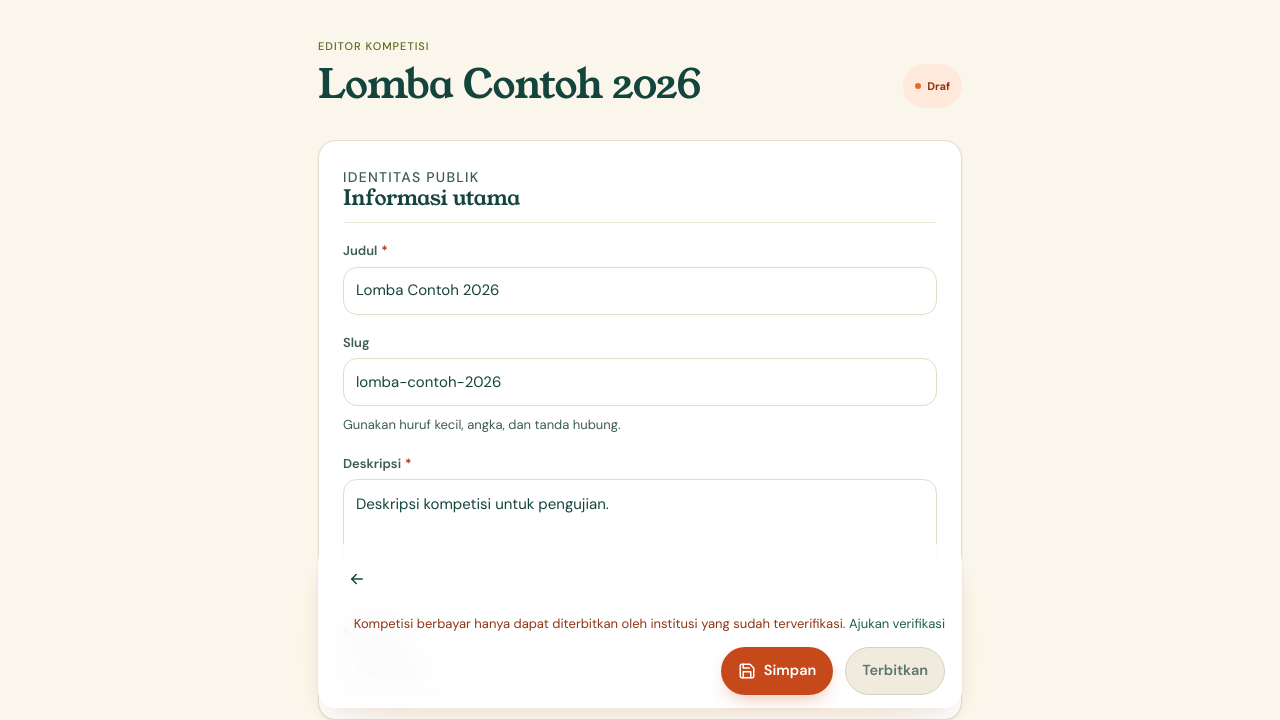
InstitutionCompetitionEditShell publish readiness › drops a server refusal it could not refresh, and takes it back when a later read succeeds
The image size is (1280, 720).
Expected: the button "Terbitkan" is disabled, [845,647,945,695]
Expected: the list item "Kompetisi berbayar hanya dapat diterbitkan oleh institusi yang sudah terverifikasi." is shown, [354,616,846,633]
What coordinates should you click on to do the following:
click the button "Simpan"
I would click on:
 (777, 671)
Its box is [721,647,833,695].
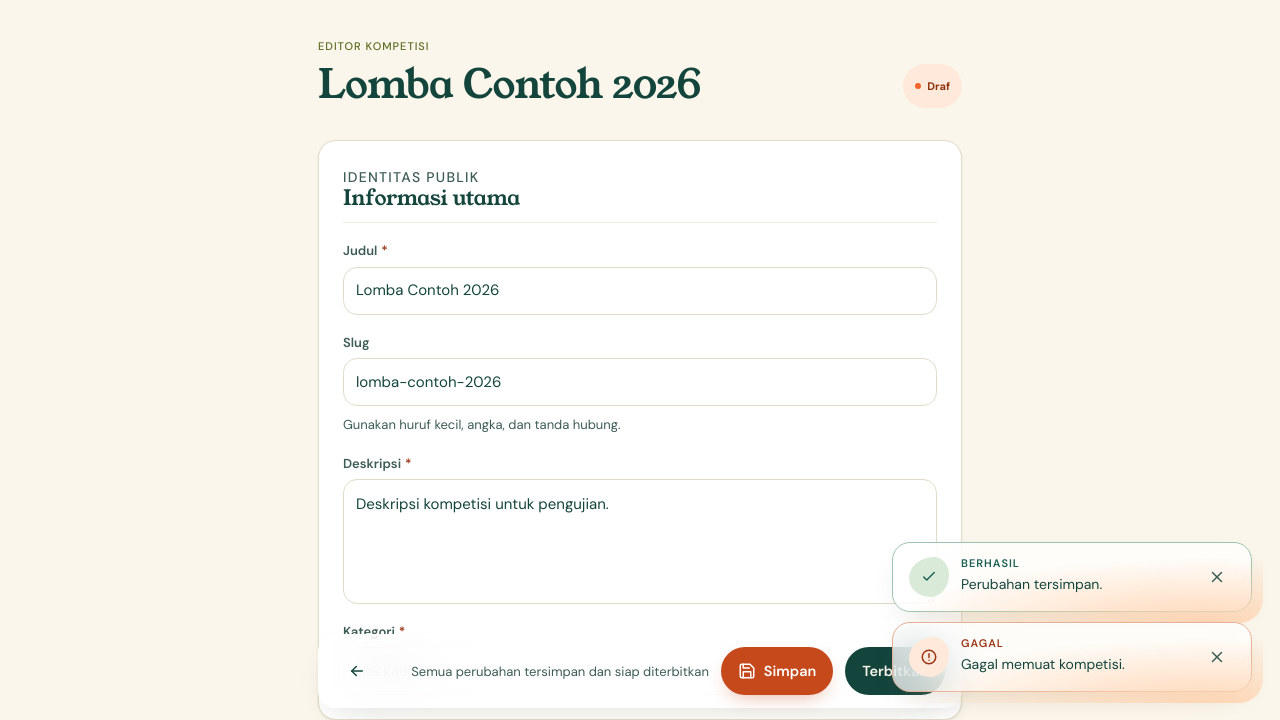
Now the button "Terbitkan" is enabled, box [845,647,945,695]
Now the list item "Kompetisi berbayar hanya dapat diterbitkan oleh institusi yang sudah terverifikasi." is gone
Now the text "Gagal memuat kompetisi." is shown, box [961,655,1125,673]
What coordinates should you click on to do the following:
click the button "Simpan"
I would click on:
 (777, 671)
Its box is [721,647,833,695].
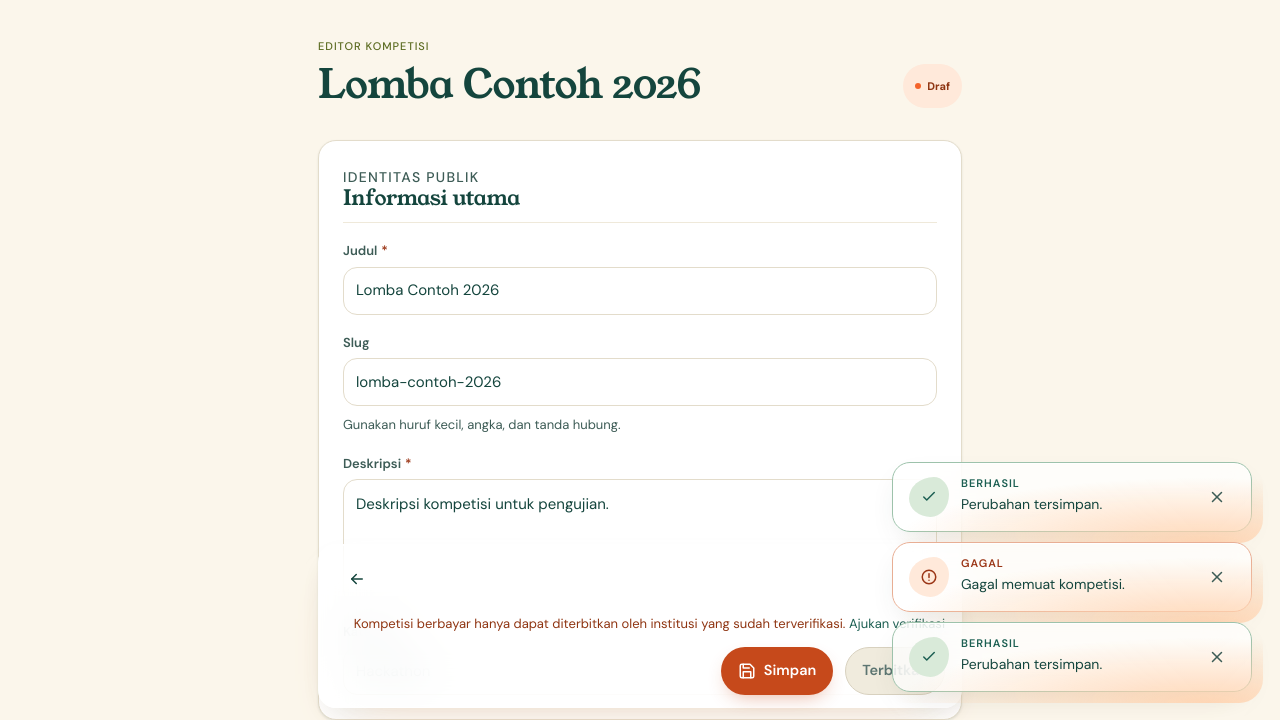
Now the list item "Kompetisi berbayar hanya dapat diterbitkan oleh institusi yang sudah terverifikasi." is shown, box [354,616,846,633]
Now the button "Terbitkan" is disabled, box [845,647,945,695]
